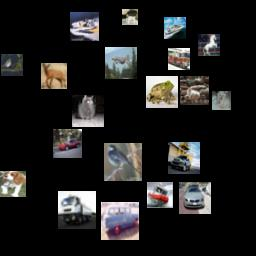airplane: (105, 47, 137, 79)
automobile: (101, 202, 139, 240), (168, 142, 200, 174), (179, 182, 211, 214), (53, 129, 82, 158)
bird: (104, 143, 142, 181), (1, 54, 23, 76)
cat: (72, 95, 104, 127), (180, 76, 209, 105)
deer: (41, 63, 67, 89)
dog: (0, 171, 26, 197), (212, 91, 231, 110), (122, 9, 138, 25)
frog: (146, 76, 178, 108)
ship: (70, 12, 99, 41), (147, 182, 173, 208), (164, 17, 186, 39)
truck: (58, 191, 96, 229), (168, 48, 190, 70)
